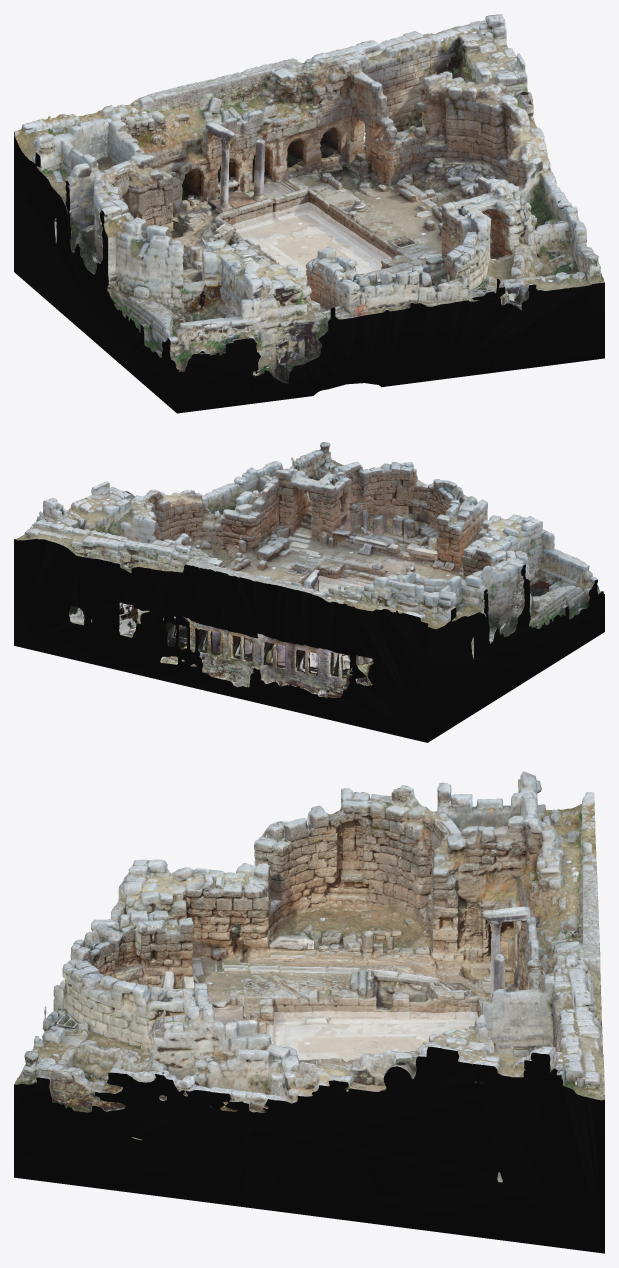
File: PeireneFountain_4k.gltf
The picture shows the model from 3 angles, top to bottom: view 1: azimuth 30°, elevation 25°; view 2: azimuth 150°, elevation 25°; view 3: azimuth 270°, elevation 25°; orthographic projection. The views are drawn at different scales.
Visible parts, largest first — view 1: Object_5; view 2: Object_5; view 3: Object_5.
Boxes of the visible parts, x1,y1,x2,y2 form: Object_5: [14, 14, 604, 413]; Object_5: [14, 442, 604, 742]; Object_5: [14, 771, 604, 1253].
Size of the model in its own units: 34.81 by 10.34 by 28.79.
4 materials, 2 textured.
